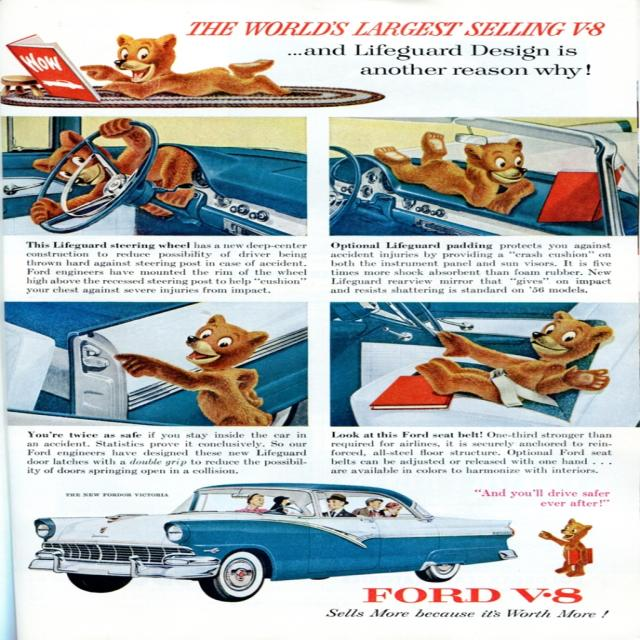car: (31, 481, 514, 604)
